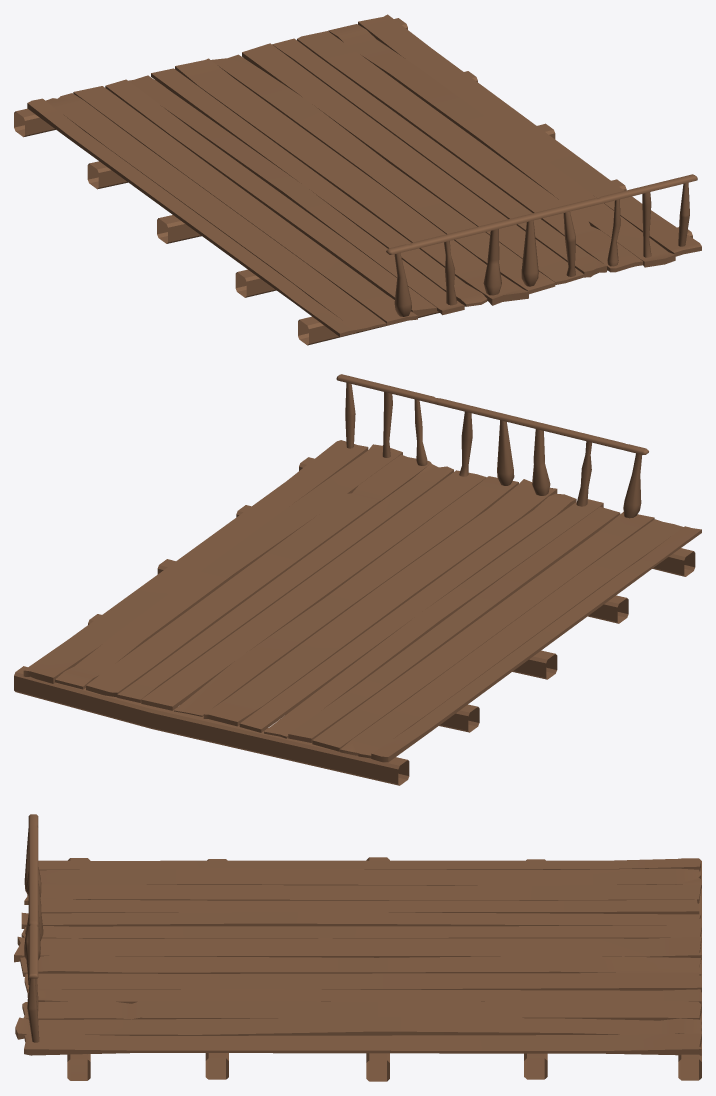
Rendered from plancher_estrade.fbx.
3 views of the same model, one above another, from view 1: azimuth 30°, elevation 25°; view 2: azimuth 150°, elevation 25°; view 3: azimuth 270°, elevation 25° (orthographic). The views are drawn at different scales.
Visible parts, largest first — view 1: plancher_estrade; view 2: plancher_estrade; view 3: plancher_estrade.
Boxes of the visible parts, bbox=[...] form: plancher_estrade: bbox=[14, 14, 701, 345]; plancher_estrade: bbox=[14, 374, 701, 785]; plancher_estrade: bbox=[14, 814, 701, 1081].
Bounding box in the file's own units: 142 × 33.82 × 204.
